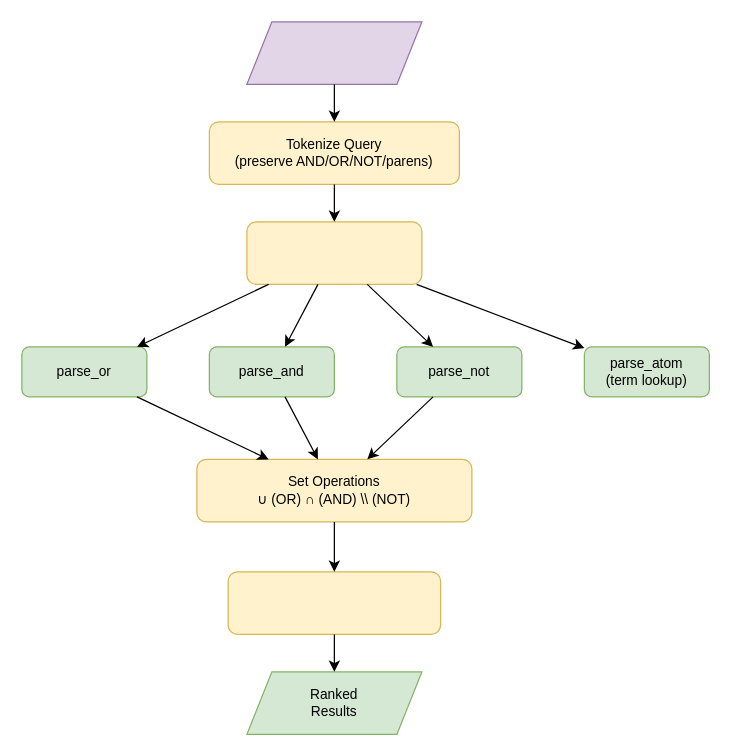
This 731x756 diagram has some shape labels left out. The shapes that lost their labels are listed below. From the top down, each one's centre as x and y in pixels, then its label:
At point 334,52: "Boolean Query String".
At point 334,252: "Recursive Descent Parser".
At point 334,602: "TF-IDF Ranking on Result Set".
